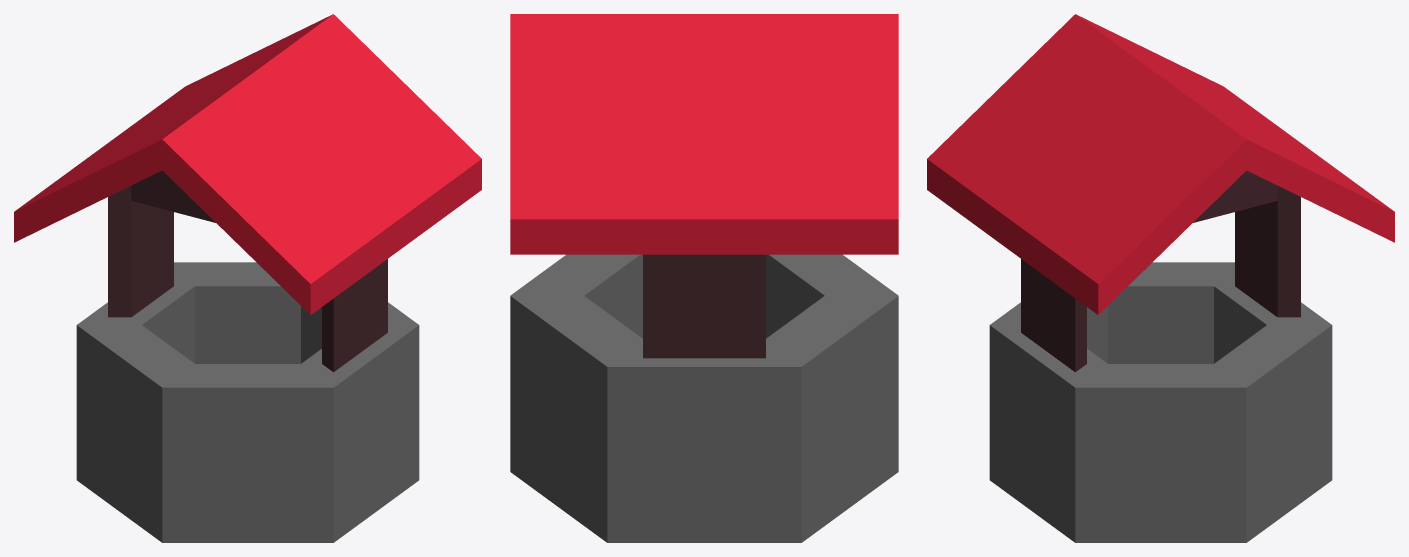
Rendered from WaterWell.dae.
3 views of the same model, side by side, from view 1: azimuth 30°, elevation 25°; view 2: azimuth 150°, elevation 25°; view 3: azimuth 270°, elevation 25° (orthographic). The views are drawn at different scales.
Parts seen in each view (by area): view 1: Cylinder; view 2: Cylinder; view 3: Cylinder.
Part boxes in pixels (x1=…): Cylinder: x1=14, y1=14, x2=481, y2=542; Cylinder: x1=510, y1=14, x2=898, y2=542; Cylinder: x1=927, y1=14, x2=1394, y2=542.
Bounding box in the file's own units: 2.73 × 2.73 × 2.6.
